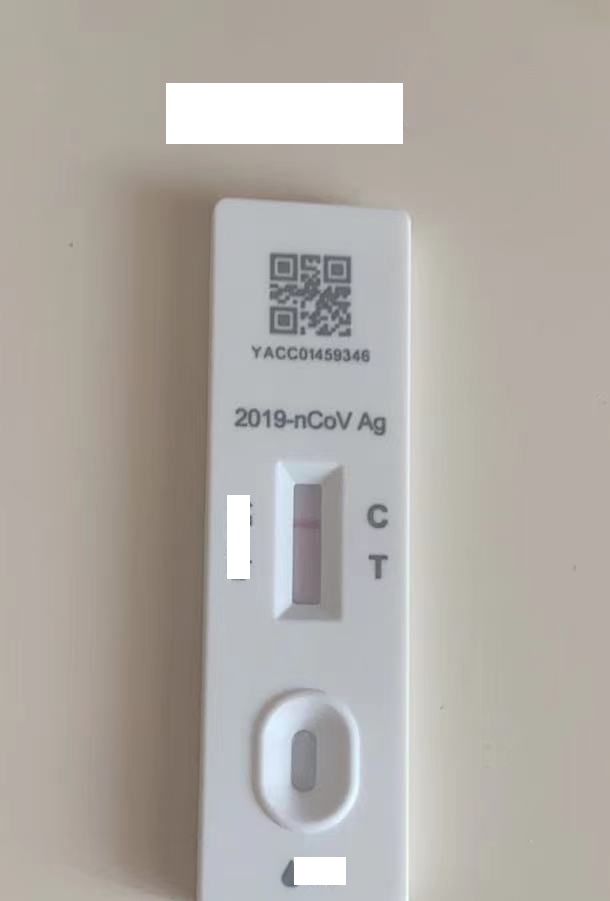negative: (278, 460, 336, 630)
